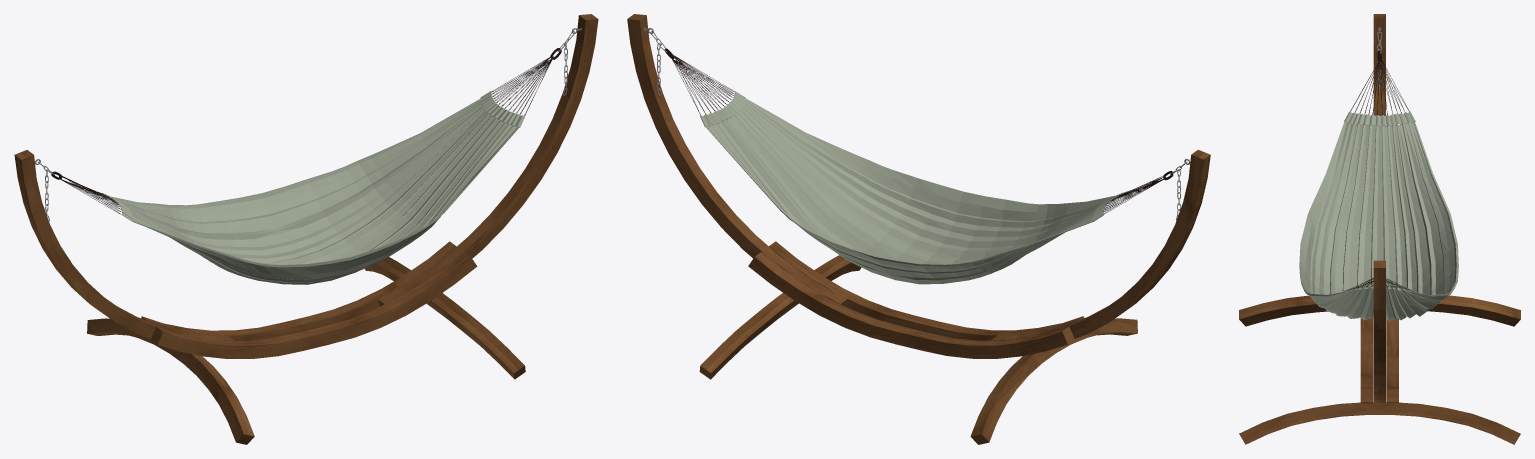
Rendered from hammock.obj.
3 renders of one model, left to right at view 1: azimuth 30°, elevation 25°; view 2: azimuth 150°, elevation 25°; view 3: azimuth 270°, elevation 25°, orthographic. The views are drawn at different scales.
Visible parts, largest first — view 1: Plane.001_Plane.002, wood_Circle, chain3.015_Circle.026, Plane.002_Plane.004; view 2: Plane.001_Plane.002, wood_Circle, chain3.015_Circle.026, Plane.002_Plane.004; view 3: Plane.001_Plane.002, wood_Circle, chain3.024_Circle.053, Plane.
Boxes of the visible parts, <box> form: Plane.001_Plane.002: <box>97,98,519,284</box>; wood_Circle: <box>14,14,598,444</box>; chain3.015_Circle.026: <box>491,56,553,115</box>; Plane.002_Plane.004: <box>480,91,524,127</box>; Plane.001_Plane.002: <box>705,98,1131,284</box>; wood_Circle: <box>627,14,1210,444</box>; chain3.015_Circle.026: <box>671,55,734,115</box>; Plane.002_Plane.004: <box>700,91,746,127</box>; Plane.001_Plane.002: <box>1299,121,1458,320</box>; wood_Circle: <box>1239,14,1520,444</box>; chain3.024_Circle.053: <box>1350,59,1409,114</box>; Plane: <box>1344,111,1415,126</box>.
Bounding box in the file's own units: 351 × 159 × 164.
